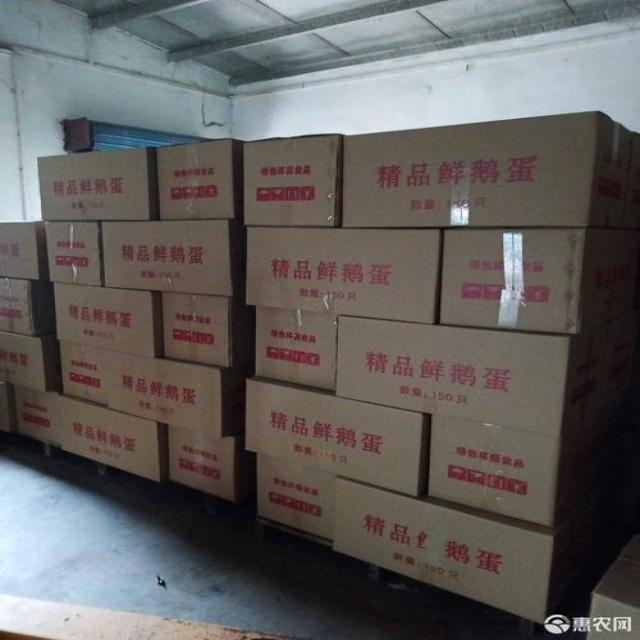box: (332, 449, 637, 626), (335, 308, 637, 437), (340, 110, 632, 228), (428, 380, 639, 526), (244, 376, 433, 497), (439, 227, 639, 336), (242, 226, 444, 323), (108, 349, 255, 438), (100, 217, 243, 297), (61, 393, 168, 482), (242, 132, 343, 225), (37, 147, 159, 220), (49, 282, 163, 358), (252, 453, 335, 546), (156, 137, 246, 219), (255, 305, 340, 391), (163, 292, 255, 367), (168, 423, 253, 503), (584, 529, 640, 639), (45, 220, 102, 286), (0, 330, 61, 391), (56, 339, 108, 405), (0, 277, 55, 336), (13, 384, 61, 449), (0, 220, 49, 280), (625, 131, 639, 229), (0, 380, 17, 433)
